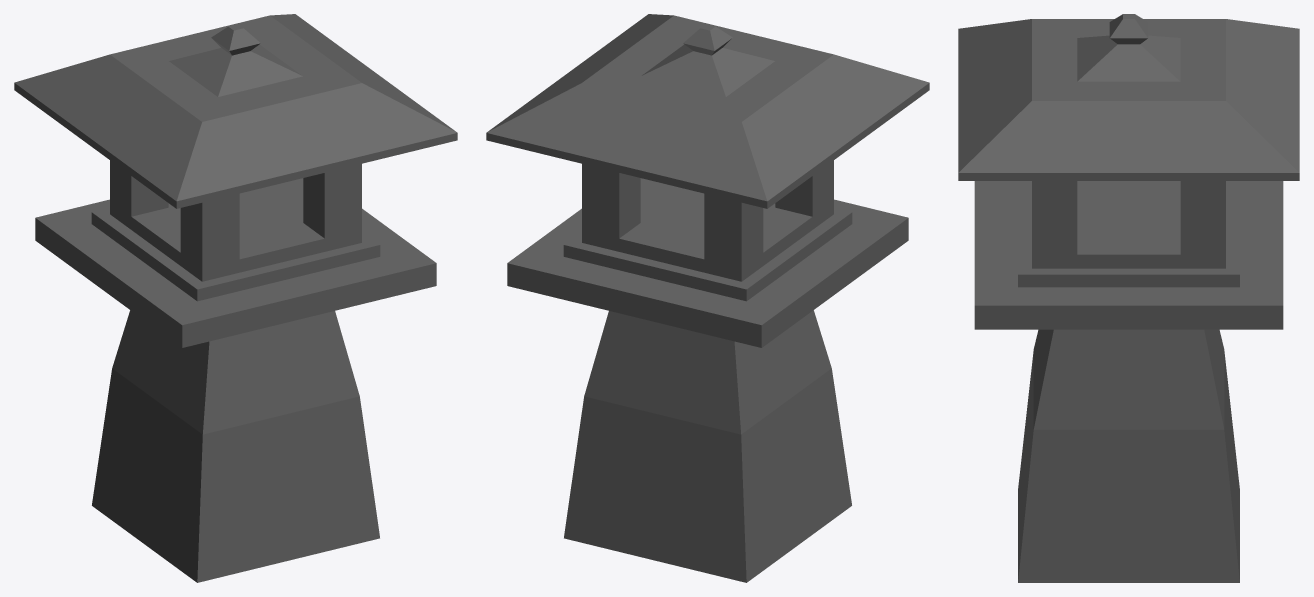
Rendered from Shrine_Statue_3.fbx.
3 views of the same model, side by side, from view 1: azimuth 30°, elevation 25°; view 2: azimuth 150°, elevation 25°; view 3: azimuth 270°, elevation 25° (orthographic). The views are drawn at different scales.
Visible parts, largest first — view 1: Shire_Statue_3; view 2: Shire_Statue_3; view 3: Shire_Statue_3.
Part boxes in pixels (x1,y1,x2,y2): Shire_Statue_3: (14,14,457,582); Shire_Statue_3: (486,14,929,582); Shire_Statue_3: (958,14,1299,582).
Bounding box in the file's own units: 76.81 × 129 × 76.81.
